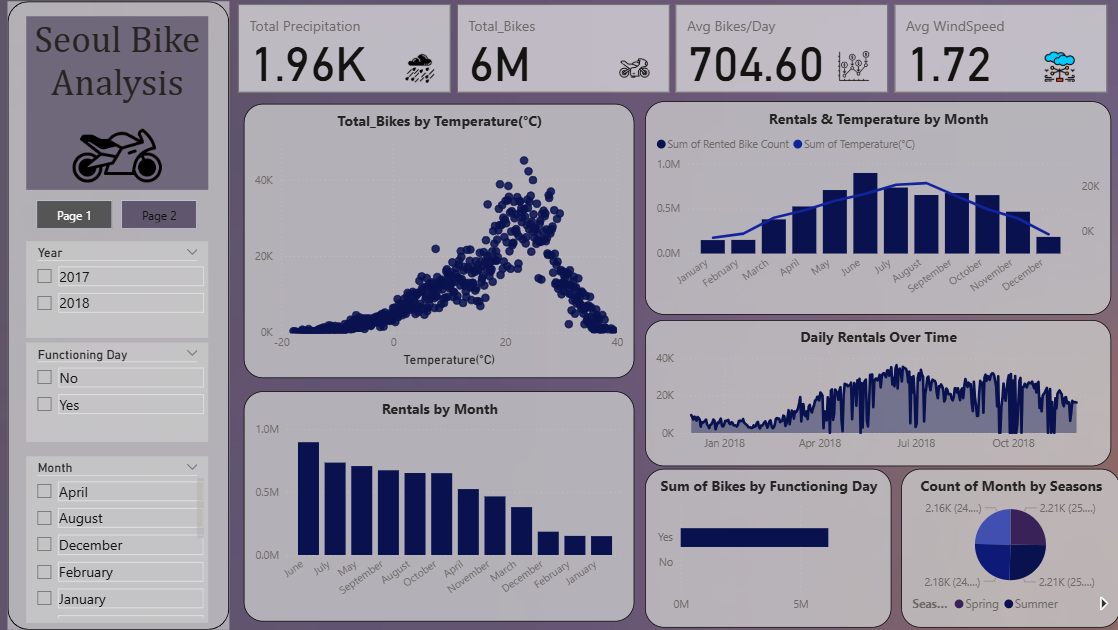

Layout of this report page (visuals, bound fields, positions):
{"tool":"powerbi","page":{"name":"Overview","canvas":[1280,720],"ordinal":0},"visuals":[{"type":"shape","box":[0,1.2,261.7,719],"z":0},{"type":"slicer","fields":{"Values":["SeoulBikeData.Date.Variation.Date Hierarchy.Year"]},"box":[30.2,274.4,208.6,111.1],"z":1000},{"type":"slicer","fields":{"Values":["SeoulBikeData.Functioning Day"]},"box":[30,391.7,208.3,113.3],"z":2000},{"type":"cardVisual","fields":{"Data":["SeoulBikeData.Total Precipitation","SeoulBikeData.Total_Bikes","SeoulBikeData.Avg Bikes/Day","SeoulBikeData.Avg WindSpeed"]},"box":[267.6,0,1005.8,111.1],"z":3000},{"type":"image","box":[1184.2,54.9,53.5,43.9],"z":4000},{"type":"image","box":[694.3,56.3,61.7,43.9],"z":5000},{"type":"image","box":[450.1,56.3,60.4,43.9],"z":6000},{"type":"image","box":[944.1,50.8,63.1,48],"z":7000},{"type":"columnChart","title":"Rentals by Month","fields":{"Y":["Sum(SeoulBikeData.Rented Bike Count)"],"Category":["SeoulBikeData.Month"]},"box":[278.3,446.7,446.7,263.3],"z":8000},{"type":"slicer","fields":{"Values":["SeoulBikeData.Month"]},"box":[30,521.7,208.3,190],"z":9000},{"type":"clusteredBarChart","title":"Sum of Bikes by Functioning Day","fields":{"Category":["SeoulBikeData.Functioning Day"],"Y":["Sum(SeoulBikeData.Rented Bike Count)"]},"box":[736.7,535,281.7,181.7],"z":10000},{"type":"lineStackedColumnComboChart","title":"Rentals & Temperature by Month","fields":{"Y2":["Sum(SeoulBikeData.Temperature(°C))"],"Y":["CountNonNull(SeoulBikeData.Rented Bike Count)"],"Category":["SeoulBikeData.Date.Variation.Date Hierarchy.Month"]},"box":[736.9,115.3,532.4,244.3],"z":11000},{"type":"areaChart","title":"Daily Rentals Over Time","fields":{"Y":["Sum(SeoulBikeData.Rented Bike Count)"],"Category":["SeoulBikeData.Date"]},"box":[736.9,365,532.4,167.4],"z":12000},{"type":"textbox","box":[30,18.3,208.3,198.3],"z":13000},{"type":"image","box":[22,106.4,207.9,118.6],"z":14000},{"type":"pieChart","fields":{"Category":["SeoulBikeData.Seasons"],"Y":["CountNonNull(SeoulBikeData.Month)"]},"box":[1030,535,250,181.7],"z":16000},{"type":"scatterChart","fields":{"X":["SeoulBikeData.Temperature(°C)"],"Y":["SeoulBikeData.Total_Bikes"]},"box":[278.3,118.3,446.7,313.3],"z":17000},{"type":"image","box":[101.5,225,66,58.7],"z":17001}]}

Visuals, with their boxes in screenshot pixels (x1, y1, x2, y2):
shape: pyautogui.locateOnScreen(6, 1, 231, 620)
slicer - SeoulBikeData.Date.Variation.Date Hierarchy.Year: pyautogui.locateOnScreen(32, 236, 212, 332)
slicer - SeoulBikeData.Functioning Day: pyautogui.locateOnScreen(32, 337, 211, 435)
cardVisual - SeoulBikeData.Total Precipitation x SeoulBikeData.Total_Bikes: pyautogui.locateOnScreen(236, 0, 1103, 96)
image: pyautogui.locateOnScreen(1026, 47, 1072, 85)
image: pyautogui.locateOnScreen(604, 48, 657, 86)
image: pyautogui.locateOnScreen(394, 48, 446, 86)
image: pyautogui.locateOnScreen(819, 44, 873, 85)
"Rentals by Month" columnChart: pyautogui.locateOnScreen(246, 385, 630, 612)
slicer - SeoulBikeData.Month: pyautogui.locateOnScreen(32, 449, 211, 613)
"Sum of Bikes by Functioning Day" clusteredBarChart: pyautogui.locateOnScreen(640, 461, 883, 617)
"Rentals & Temperature by Month" lineStackedColumnComboChart: pyautogui.locateOnScreen(641, 99, 1099, 310)
"Daily Rentals Over Time" areaChart: pyautogui.locateOnScreen(641, 314, 1099, 459)
textbox: pyautogui.locateOnScreen(32, 16, 211, 187)
image: pyautogui.locateOnScreen(25, 92, 204, 194)
pieChart - SeoulBikeData.Seasons x CountNonNull(SeoulBikeData.Month): pyautogui.locateOnScreen(893, 461, 1108, 617)
scatterChart - SeoulBikeData.Temperature(°C) x SeoulBikeData.Total_Bikes: pyautogui.locateOnScreen(246, 102, 630, 372)
image: pyautogui.locateOnScreen(93, 194, 150, 244)
